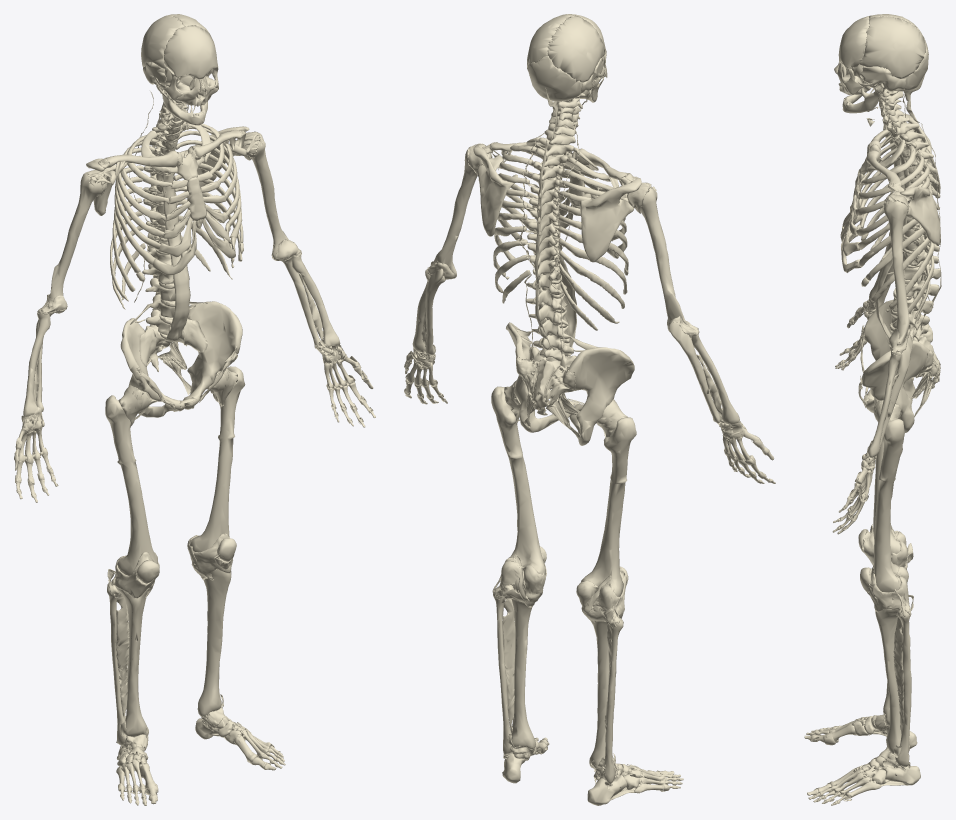
File: skeletal.glb
3 renders of one model, left to right at view 1: azimuth 30°, elevation 25°; view 2: azimuth 150°, elevation 25°; view 3: azimuth 270°, elevation 25°, orthographic. The views are drawn at different scales.
Visible parts, largest first — view 1: VF_hip_left, VF_femur_right, VF_femur_left, VF_tibia_left, W_FJ3200, VF_tibia_right, W_ZA934E4140, VF_hip_right, VF_humerus_right, VF_humerus_left, W_FJ3380, W_FJ1392 (+10 smaller); view 2: VF_hip_right, VF_femur_right, VF_femur_left, VF_scapula_right, W_FJ3380, VF_tibia_left, VF_humerus_right, VF_scapula_left, VF_tibia_right, W_FJ3309, VF_humerus_left, VF_hip_left (+13 smaller); view 3: VF_femur_left, W_FJ3274, VF_hip_left, VF_humerus_left, VF_tibia_left, VF_scapula_left, VF_fibula_left, VF_hip_right, W_FJ3200, W_ZA2398DFE8, VF_radius_left, W_FJ3281 (+27 smaller).
Boxes of the visible parts, bbox=[...] form: VF_hip_left: bbox=[183, 301, 242, 409]; VF_femur_right: bbox=[105, 395, 157, 575]; VF_femur_left: bbox=[190, 366, 245, 552]; VF_tibia_left: bbox=[197, 569, 231, 717]; W_FJ3200: bbox=[164, 25, 217, 79]; VF_tibia_right: bbox=[115, 583, 148, 736]; W_ZA934E4140: bbox=[162, 100, 190, 341]; VF_hip_right: bbox=[120, 318, 184, 417]; VF_humerus_right: bbox=[48, 173, 102, 312]; VF_humerus_left: bbox=[251, 133, 293, 258]; W_FJ3380: bbox=[141, 15, 185, 69]; W_FJ1392: bbox=[116, 593, 129, 723]; VF_hip_right: bbox=[566, 347, 634, 445]; VF_femur_right: bbox=[581, 416, 636, 596]; VF_femur_left: bbox=[491, 386, 545, 574]; VF_scapula_right: bbox=[579, 178, 641, 262]; W_FJ3380: bbox=[547, 15, 604, 82]; VF_tibia_left: bbox=[511, 599, 535, 749]; VF_humerus_right: bbox=[640, 187, 688, 325]; VF_scapula_left: bbox=[473, 145, 517, 236]; VF_tibia_right: bbox=[589, 611, 623, 771]; W_FJ3309: bbox=[527, 56, 582, 101]; VF_humerus_left: bbox=[431, 146, 477, 276]; VF_hip_left: bbox=[506, 322, 574, 432]; VF_femur_left: bbox=[874, 419, 904, 592]; W_FJ3274: bbox=[859, 16, 925, 78]; VF_hip_left: bbox=[861, 340, 929, 432]; VF_humerus_left: bbox=[883, 200, 909, 345]; VF_tibia_left: bbox=[875, 609, 901, 754]; VF_scapula_left: bbox=[887, 183, 940, 245]; VF_fibula_left: bbox=[895, 612, 911, 767]; VF_hip_right: bbox=[864, 299, 932, 399]; W_FJ3200: bbox=[838, 16, 869, 68]; W_ZA2398DFE8: bbox=[871, 565, 910, 616]; VF_radius_left: bbox=[867, 351, 900, 457]; W_FJ3281: bbox=[858, 66, 905, 93].
Bounding box in the file's own units: 0.8023 × 1.59 × 0.2625.
